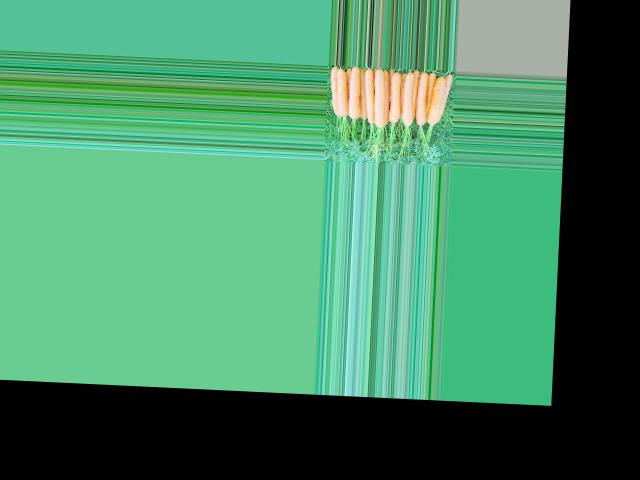carrot: (330, 64, 340, 115)
